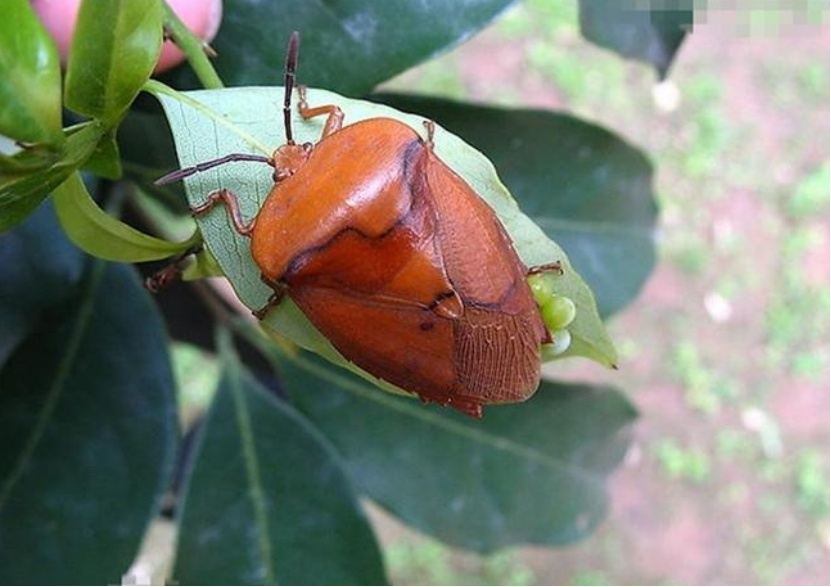Stink_Bug: (210, 150, 603, 390)
